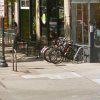Bicycle: (36, 35, 92, 66)
